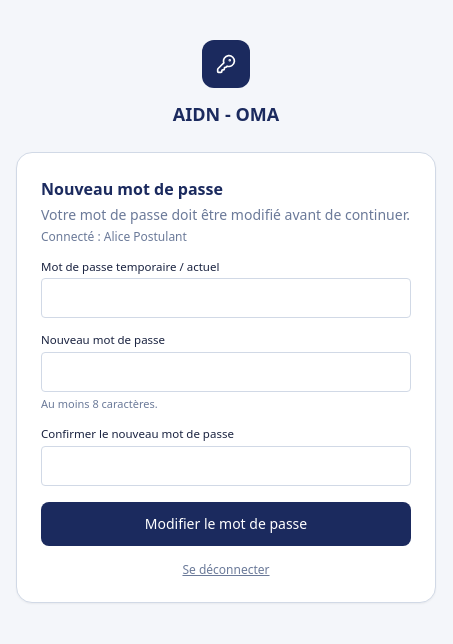
Test case: <ChangePasswordPage> › an API refusal shows its message and keeps the screen
In the password field labelled "Mot de passe temporaire / actuel": (226, 298) left=41, top=278, right=411, bottom=318, type "mauvais-mdp"
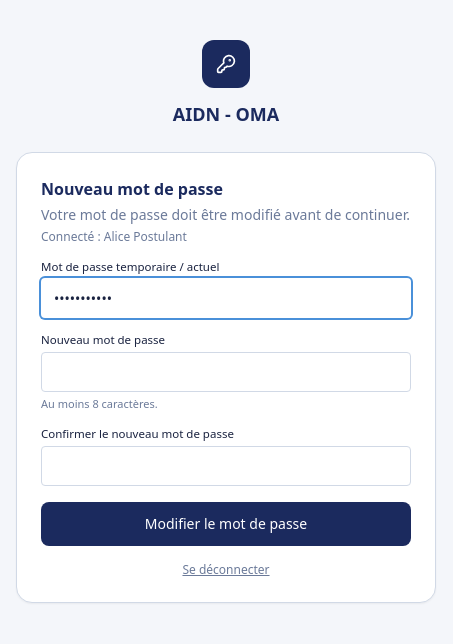
In the password field labelled "Nouveau mot de passe": (226, 372) left=41, top=352, right=411, bottom=392, type "Nouveau-2026"
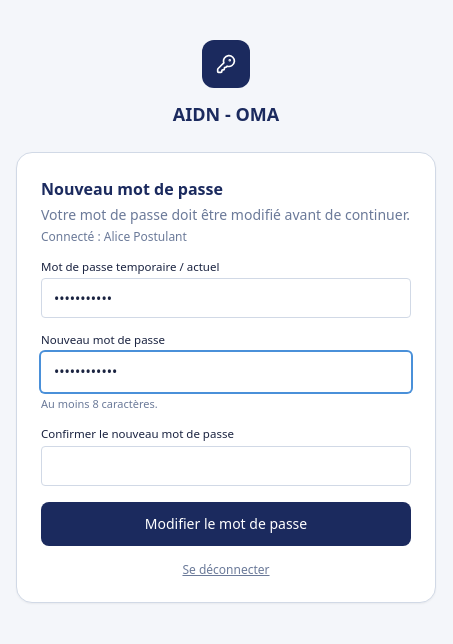
In the password field labelled "Confirmer le nouveau mot de passe": (226, 466) left=41, top=446, right=411, bottom=486, type "Nouveau-2026"
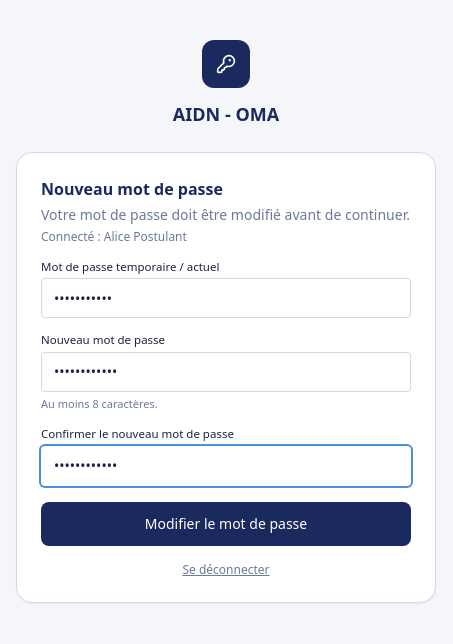
Click the button "Modifier le mot de passe": click(226, 524) left=41, top=502, right=411, bottom=546
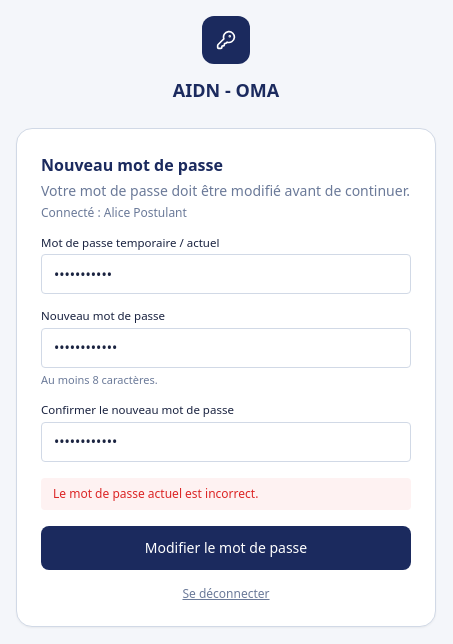
Expected: the button "Modifier le mot de passe" is enabled, left=41, top=526, right=411, bottom=570
Expected: the message reads "Le mot de passe actuel est incorrect.", left=53, top=484, right=258, bottom=502
